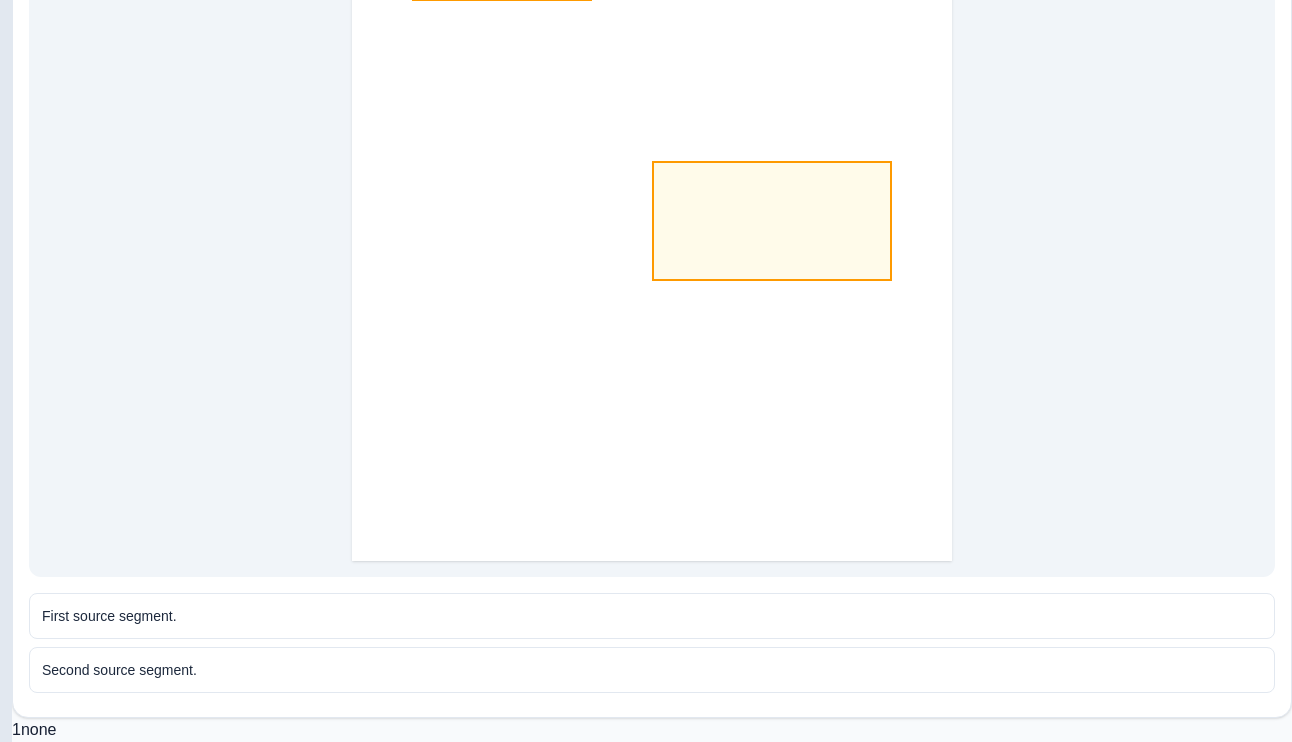
Test: source page viewer › selects segments from the list and their block overlays
(page scrolled)
Step 1. Click the button "Second source segment." → {"x": 119, "y": 670}, box [29, 647, 1275, 693]
(page scrolled)
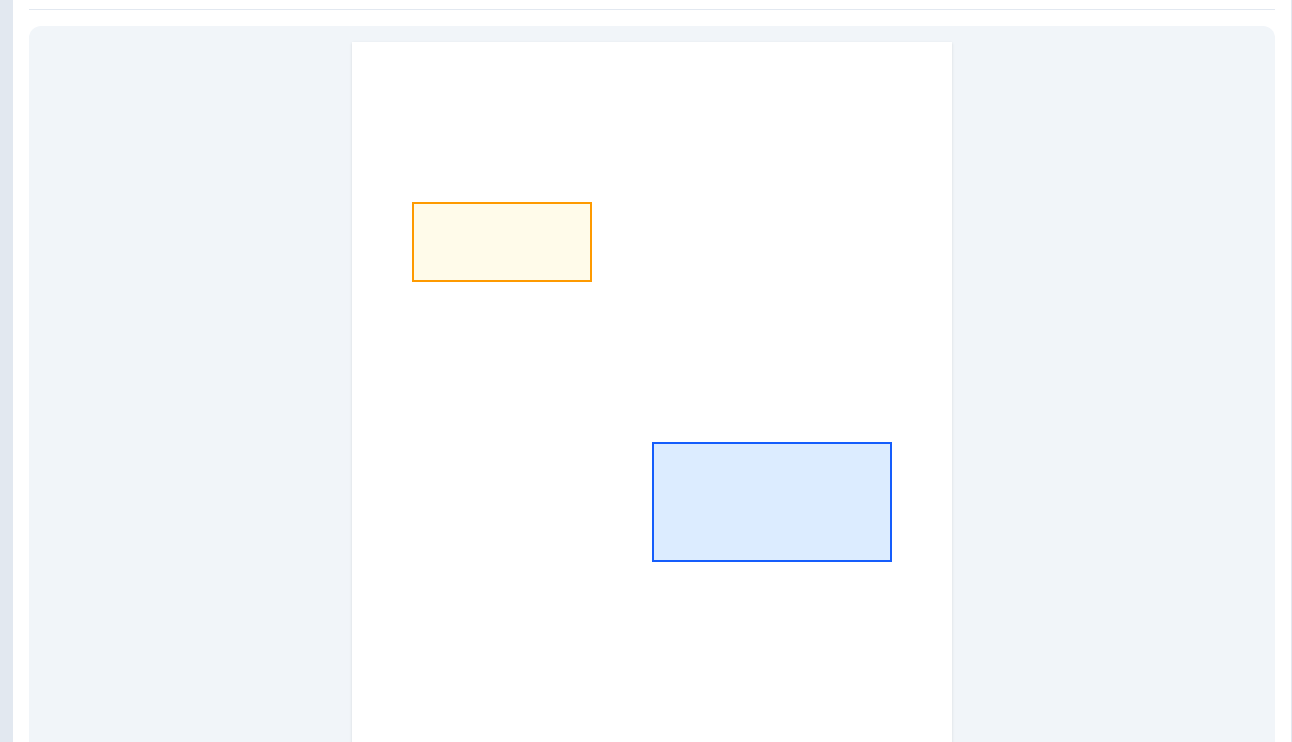
Expected: the button named "Block 2" is pressed, [652, 442, 892, 562]
Step 2. Click the button named "Block 1" → {"x": 502, "y": 242}, box [412, 202, 592, 282]
(page scrolled)
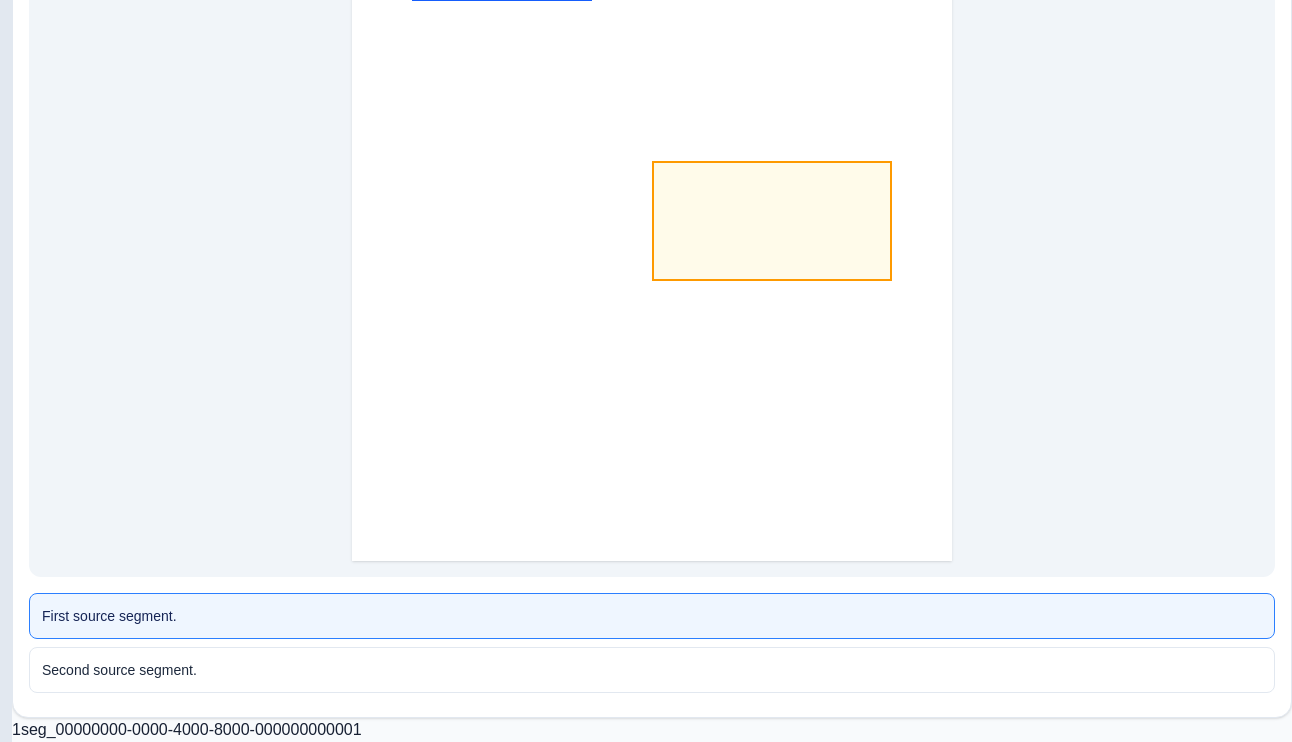
Expected: the text named "Selected segment" reads "seg_00000000-0000-4000-8000-000000000001", [21, 721, 362, 738]
